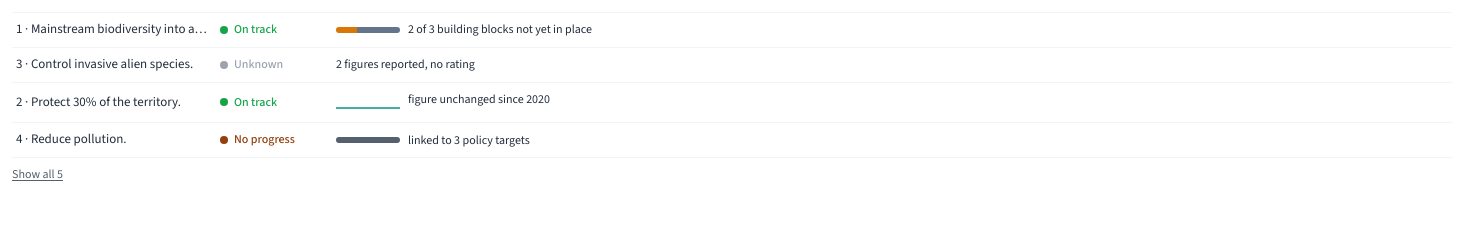
Test: Nr7CrossChecks › shows the eligible cross-checks first: target number, rating word and the evidence label per kind
The width and height of the screenshot is (1464, 238).
Expected: the number of list items is 4, top-left (12, 12), bottom-right (1452, 47); top-left (12, 47), bottom-right (1452, 82); top-left (12, 82), bottom-right (1452, 122); top-left (12, 122), bottom-right (1452, 157)
Step 1. Click the button "Show all 5" → [38, 175], box top-left (12, 166), bottom-right (63, 183)
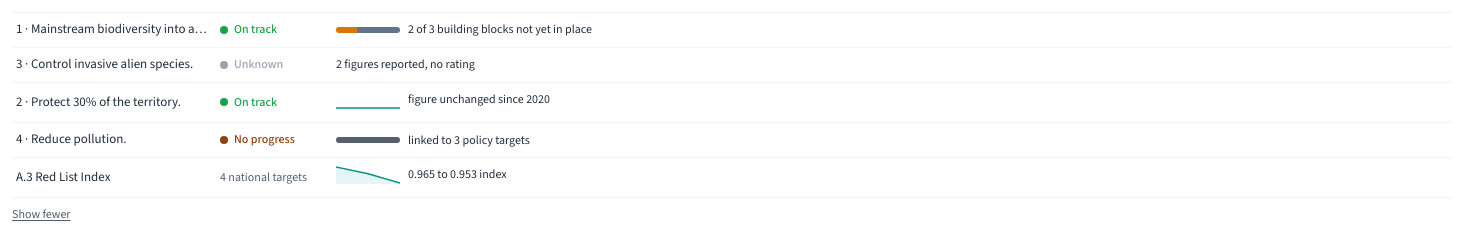
Result: the number of list items is 5 at top-left (12, 12), bottom-right (1452, 47); top-left (12, 47), bottom-right (1452, 82); top-left (12, 82), bottom-right (1452, 122); top-left (12, 122), bottom-right (1452, 157); top-left (12, 157), bottom-right (1452, 197)
Result: the text "4 national targets" is shown at top-left (220, 169), bottom-right (307, 186)
Result: the text "0.965 to 0.953 index" is shown at top-left (408, 166), bottom-right (507, 184)
